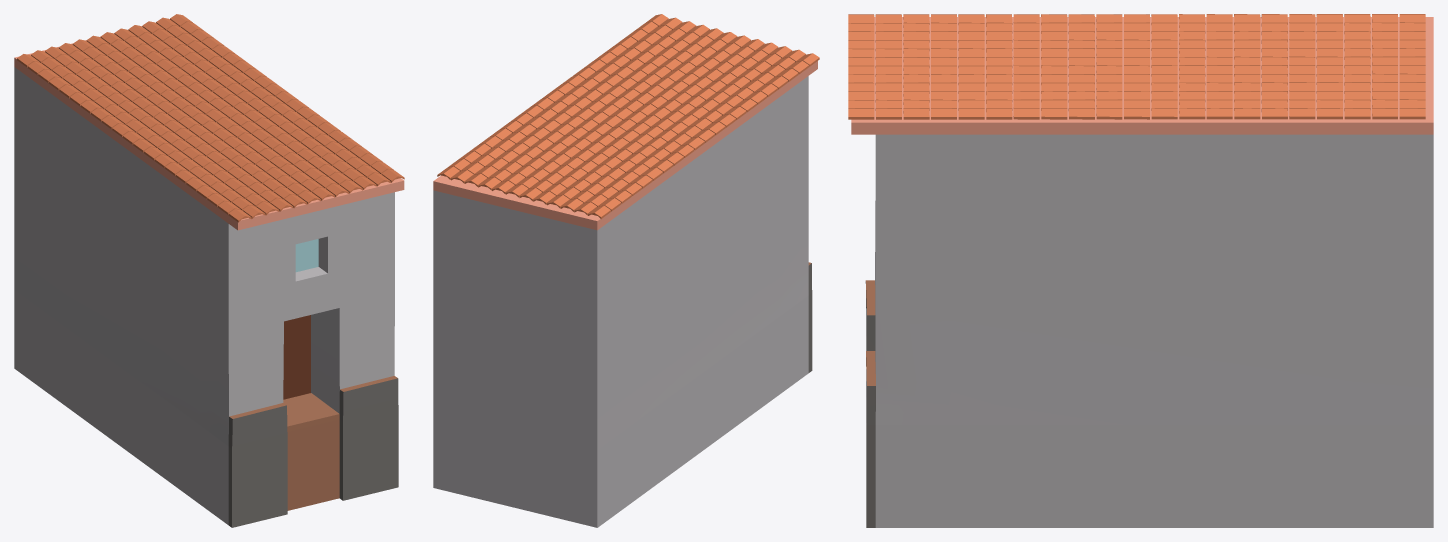
File: 14_Casa_Benarrabal_Sergio_Toscano.fbx
3 views of the same model, side by side, from view 1: azimuth 30°, elevation 25°; view 2: azimuth 150°, elevation 25°; view 3: azimuth 270°, elevation 25° (orthographic). The views are drawn at different scales.
Parts seen in each view (by area): view 1: Cube.086, Tejas_2.002; view 2: Cube.086, Tejas_2.002; view 3: Cube.086, Tejas_2.002.
Part boxes in pixels (x1,y1,x2,y2): Cube.086: [14, 36, 404, 527]; Tejas_2.002: [17, 14, 404, 222]; Cube.086: [433, 61, 817, 527]; Tejas_2.002: [437, 14, 819, 218]; Cube.086: [851, 17, 1433, 527]; Tejas_2.002: [848, 14, 1425, 119].
Size of the model in its own units: 408 by 743 by 950.
